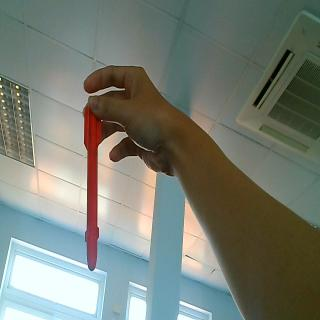Rocket: (84, 110, 101, 272)
